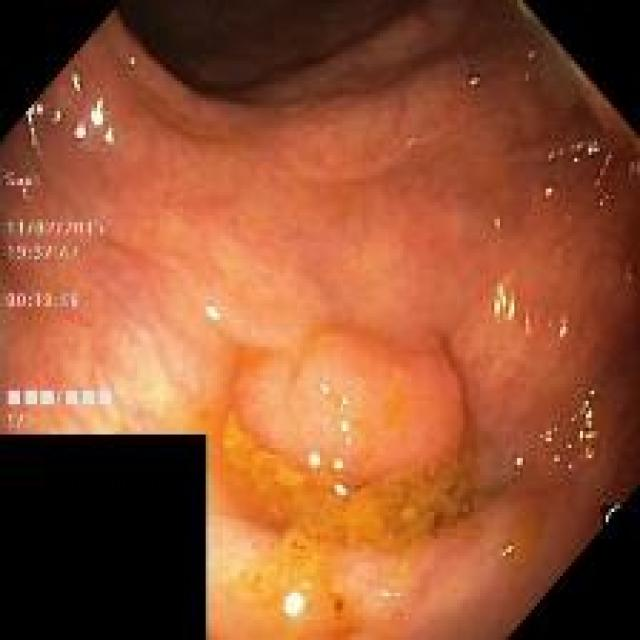Polyps: (234, 330, 465, 488)
